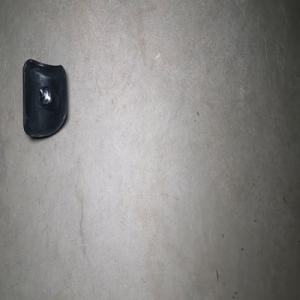LuggagePart: (21, 57, 68, 140)
